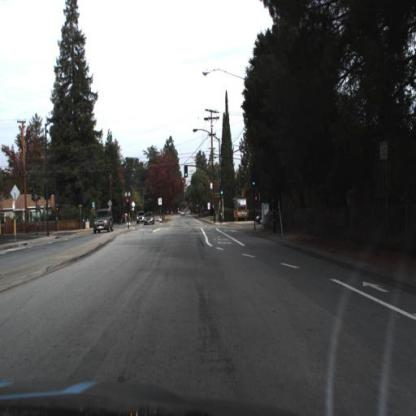car: (91, 205, 114, 237), (142, 212, 157, 228), (255, 210, 267, 226), (136, 212, 146, 229)
trafficLight-Green: (183, 160, 191, 183), (252, 171, 260, 193), (220, 188, 226, 204)
trafficLight-RedLeft: (124, 195, 132, 216)
